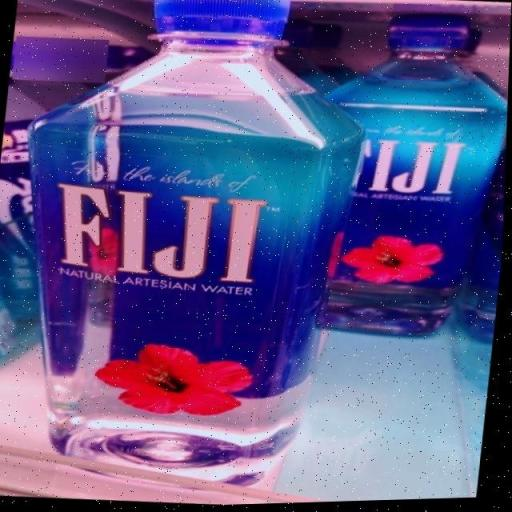plastic: (0, 0, 377, 502), (301, 16, 511, 346)
